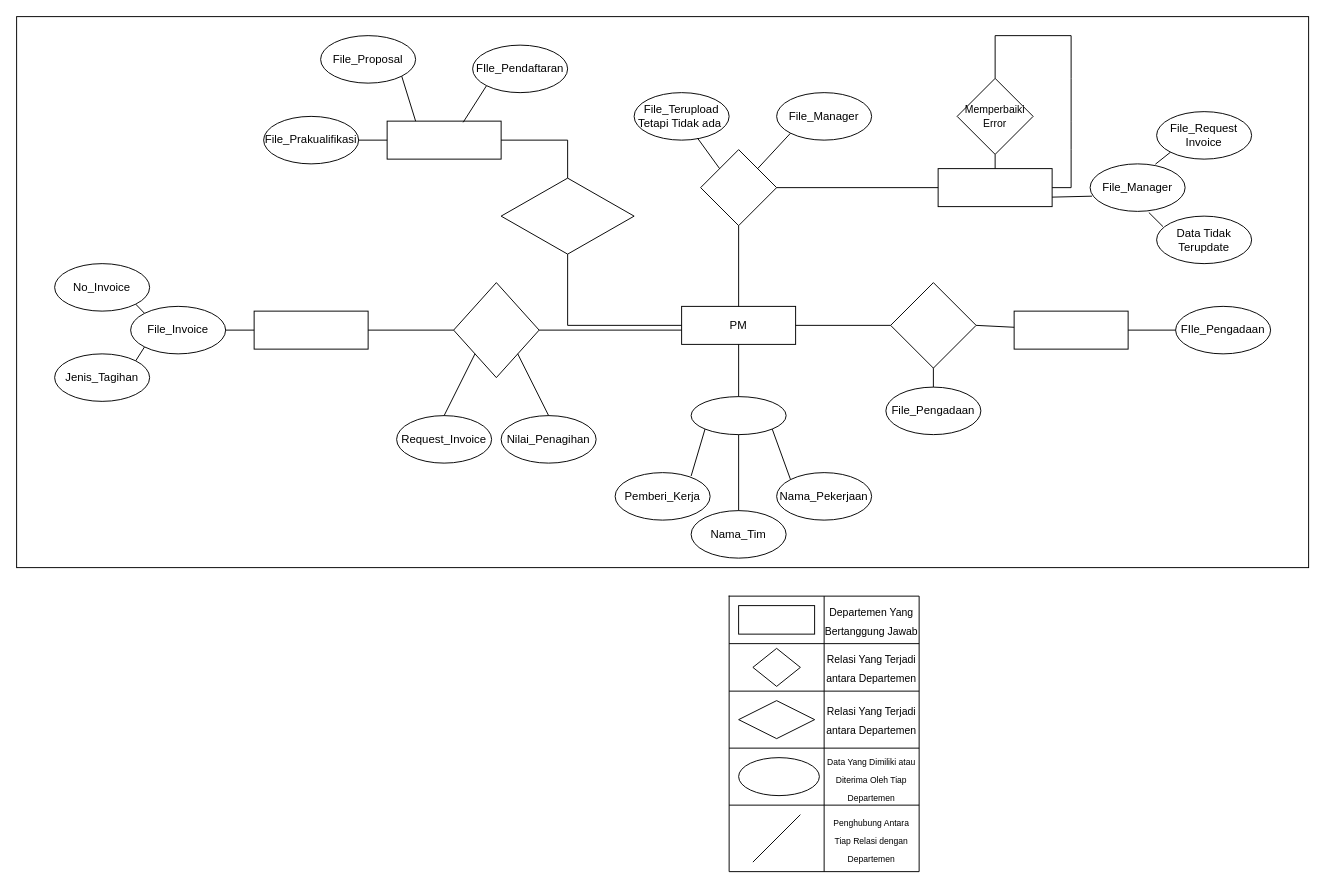
Image size: 1325x888. Some labels were removed from this diagram. Each missing label, with the box of its shape:
Dept. DI: (386, 120, 501, 159)
Dept. Keuangan: (253, 310, 368, 349)
Dept. TIK: (937, 168, 1052, 207)
Direksi: (1013, 310, 1128, 349)
Melaporkan Error/Bugs: (700, 149, 777, 226)
Mengajukan Keputusan: (890, 282, 976, 368)
Mengajukan Request Invoicie: (453, 282, 539, 378)
Mengajukan Verifikasi dan Pengecekan: (500, 177, 634, 254)
Seluruh Data_Proyek: (690, 396, 786, 435)
